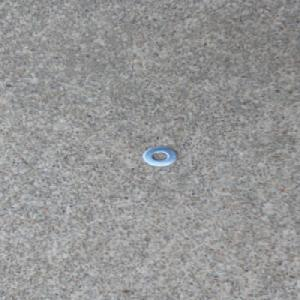Washer: (140, 146, 177, 167)
